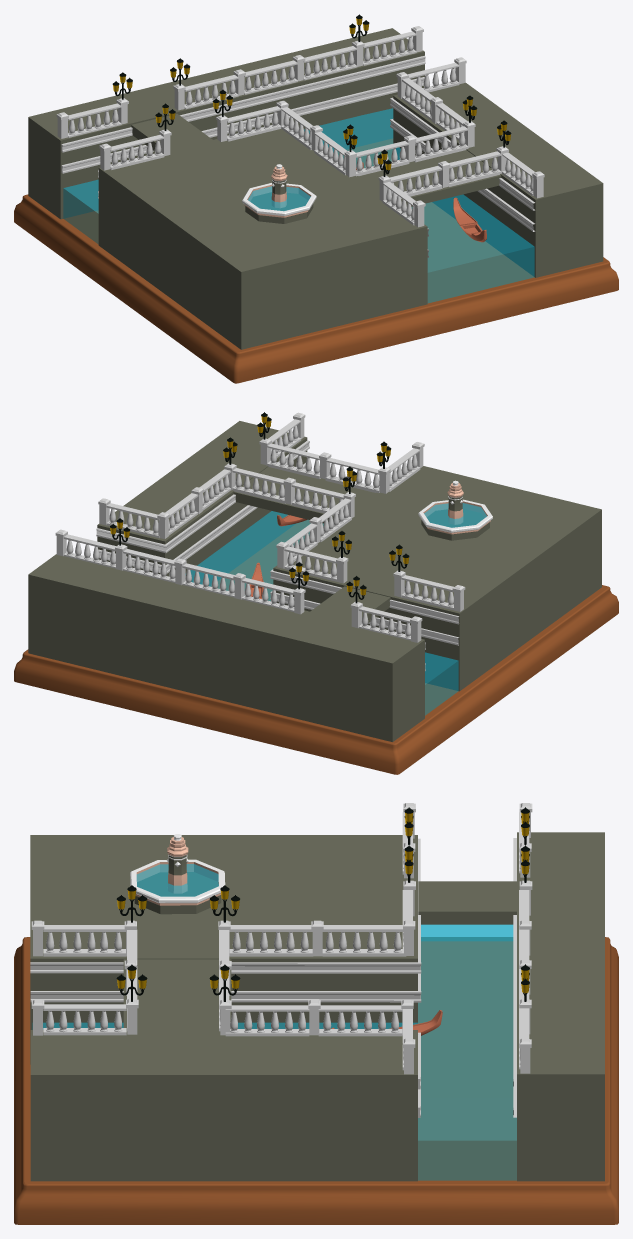
Rendered from level4_3.FBX.
3 views of the same model, one above another, from view 1: azimuth 30°, elevation 25°; view 2: azimuth 150°, elevation 25°; view 3: azimuth 270°, elevation 25° (orthographic). The views are drawn at different scales.
Parts seen in each view (by area): view 1: Container001, Box074, Box073, Box075, Cylinder089, Box076, Box077, Plane012; view 2: Container001, Box073, Box074, Box075, Cylinder089, Box076, Box077; view 3: Container001, Box075, Box074, Box073, Box076, Cylinder089, Box077.
Boxes of the visible parts, <box> form: Container001: <box>14,26,618,383</box>; Box074: <box>98,129,427,349</box>; Box073: <box>28,28,424,219</box>; Box075: <box>393,82,603,277</box>; Cylinder089: <box>242,164,316,223</box>; Box076: <box>359,150,501,206</box>; Box077: <box>131,114,212,151</box>; Plane012: <box>453,197,486,242</box>; Container001: <box>14,412,618,774</box>; Box073: <box>28,554,424,741</box>; Box074: <box>273,466,601,691</box>; Box075: <box>97,421,307,586</box>; Cylinder089: <box>418,480,492,540</box>; Box076: <box>233,467,375,523</box>; Box077: <box>310,586,390,622</box>; Container001: <box>14,803,618,1224</box>; Box075: <box>30,1030,417,1181</box>; Box074: <box>30,835,417,1064</box>; Box073: <box>517,832,604,1181</box>; Box076: <box>123,959,231,1029</box>; Cylinder089: <box>130,834,225,914</box>; Box077: <box>418,881,516,924</box>.
Size of the model in its own units: 336 by 130 by 336.
